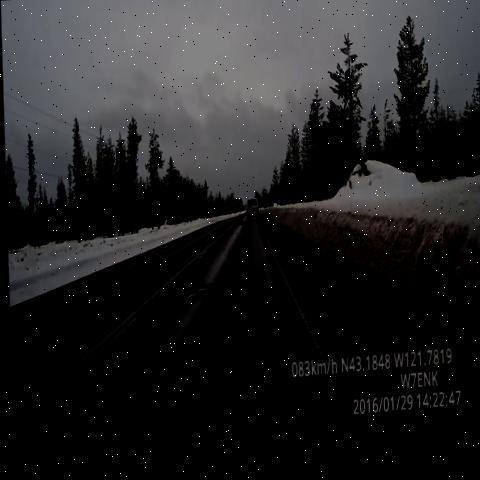pothole: (179, 266, 217, 317), (233, 218, 248, 235), (254, 227, 265, 247)
